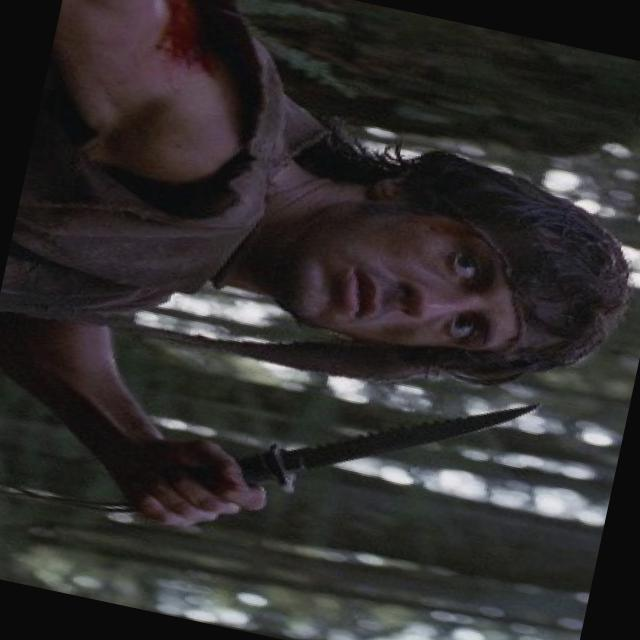knife: (134, 318, 556, 606)
